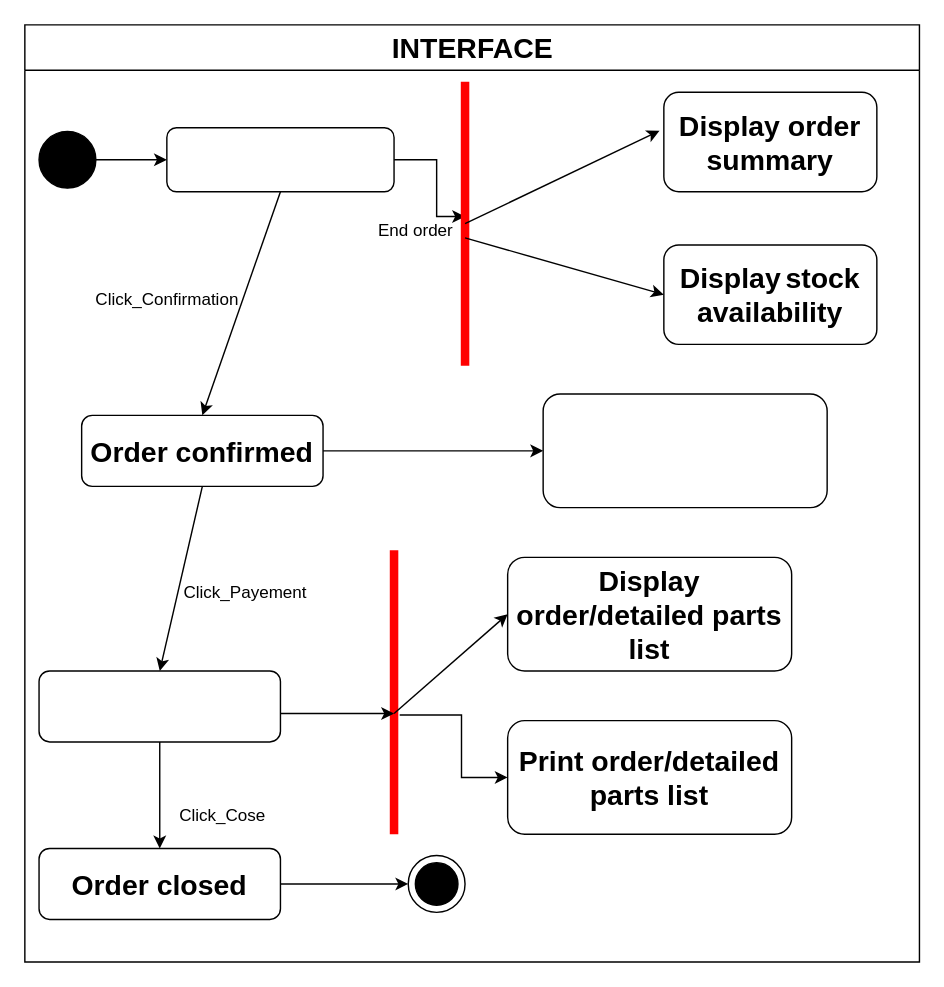
The diagram is 944 pixels wide and 987 high, and some of its shapes have lost their labels. Here are the shapes that lost their labels. From the top down, the centre of each, then its label:
At (279,159): "Order encoding".
At (684,450): "Print invoice".
At (159,706): "Order paid".
